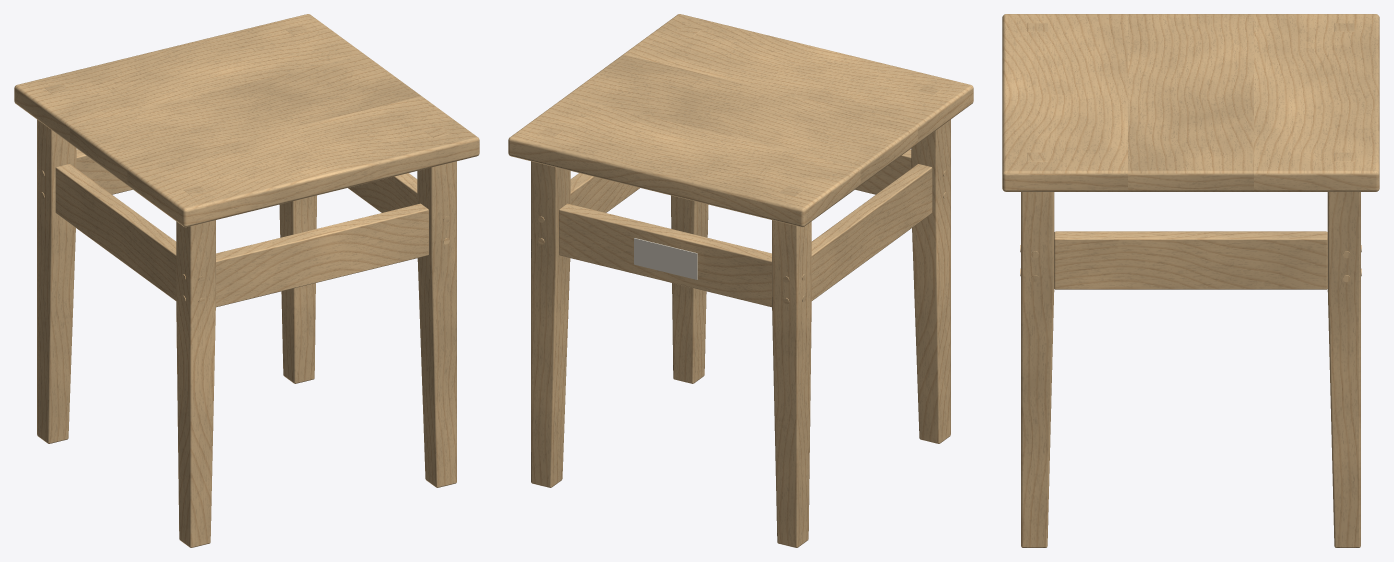
Rendered from Hocker01_Raw.fbx.
3 views of the same model, side by side, from view 1: azimuth 30°, elevation 25°; view 2: azimuth 150°, elevation 25°; view 3: azimuth 270°, elevation 25° (orthographic). The views are drawn at different scales.
Visible parts, largest first — view 1: Hocker01_Raw__WoodRaw; view 2: Hocker01_Raw__WoodRaw, Hocker01_Raw__WallWhite; view 3: Hocker01_Raw__WoodRaw.
Boxes of the visible parts, x1,y1,x2,y2 form: Hocker01_Raw__WoodRaw: (14, 14, 479, 547); Hocker01_Raw__WoodRaw: (508, 14, 973, 547); Hocker01_Raw__WallWhite: (634, 238, 697, 279); Hocker01_Raw__WoodRaw: (1002, 14, 1379, 547).
Size of the model in its own units: 40 by 45 by 40.
Materials: 2 (1 with a texture image).
